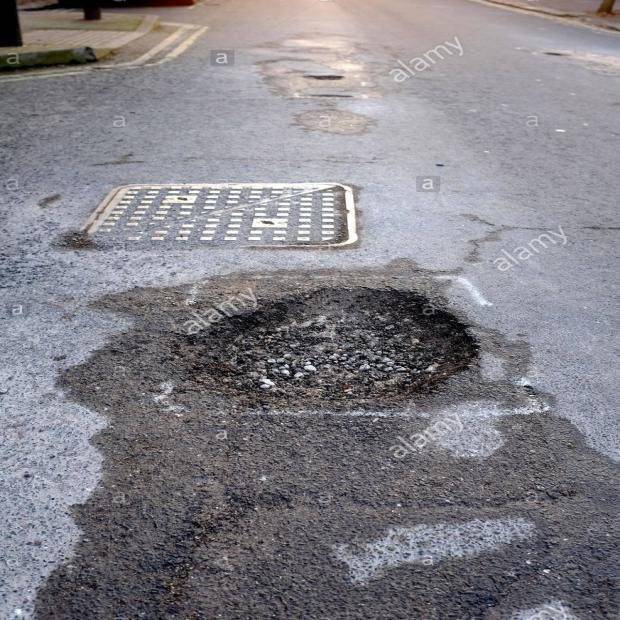lubang: (158, 490, 579, 620), (168, 287, 478, 413), (303, 92, 357, 99), (304, 74, 344, 81), (541, 51, 570, 58)
